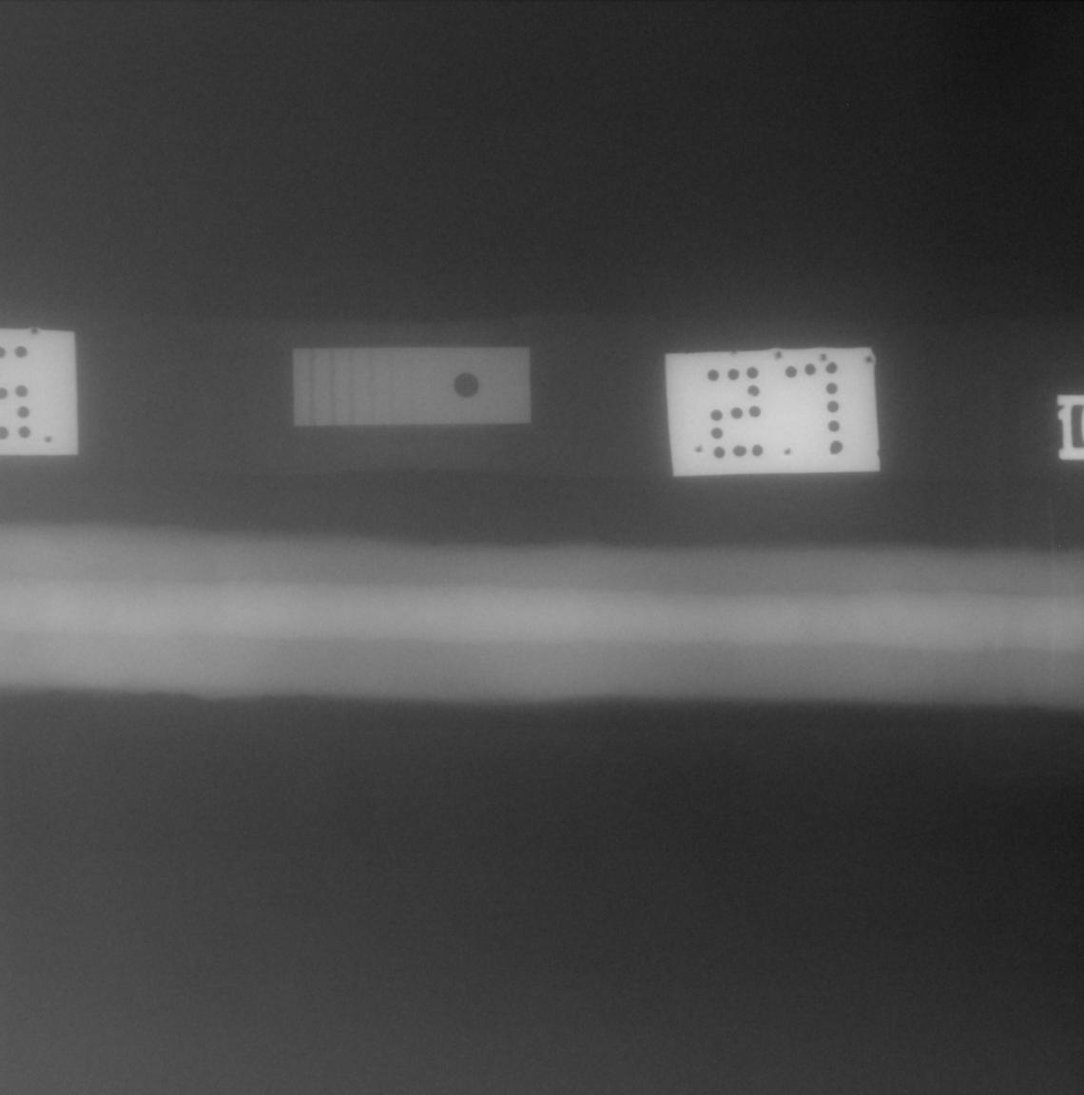Reference Standard 1: (292, 346, 531, 426)
